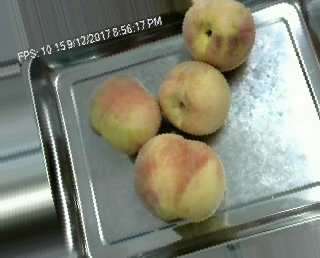Peach: (132, 134, 225, 224), (88, 71, 161, 154), (158, 59, 231, 136), (181, 0, 255, 68)
